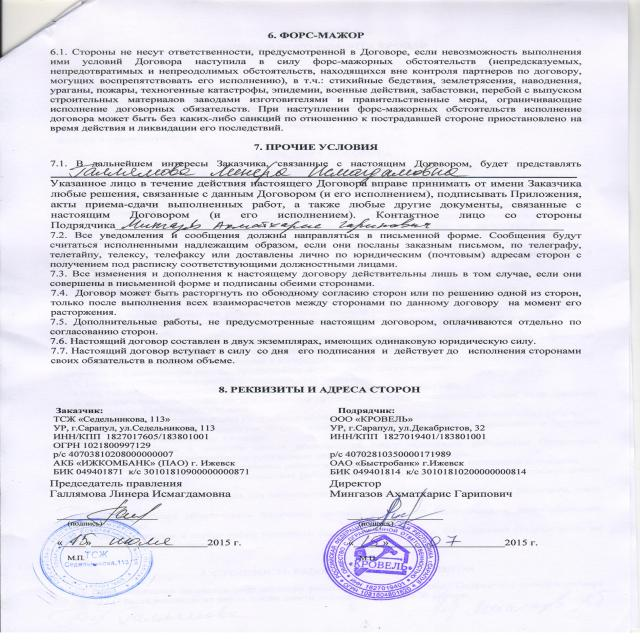stamps: (8, 484, 282, 603), (311, 504, 539, 610)
